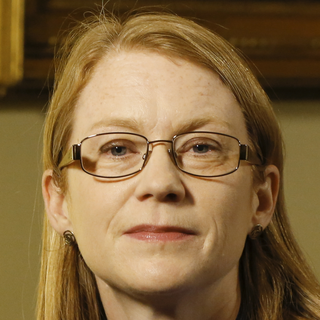eye: (98, 140, 140, 163), (183, 138, 225, 161)
